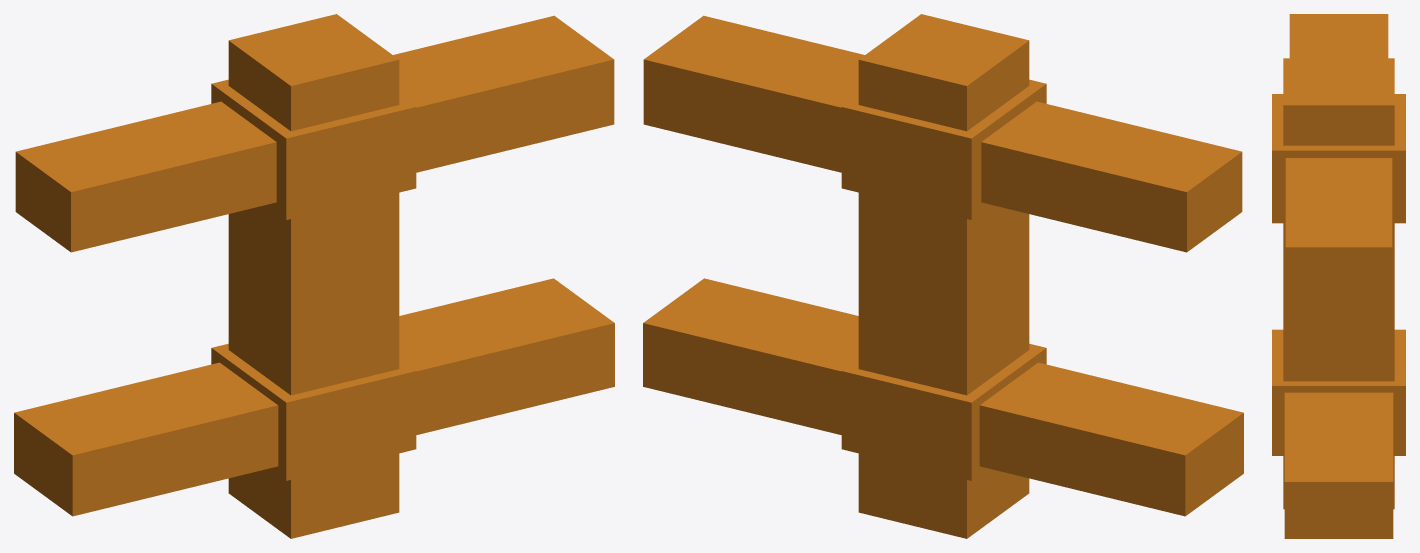
File: Fence_Side.fbx
3 renders of one model, left to right at view 1: azimuth 30°, elevation 25°; view 2: azimuth 150°, elevation 25°; view 3: azimuth 270°, elevation 25°, orthographic. The views are drawn at different scales.
Visible parts, largest first — view 1: pCube4; view 2: pCube4; view 3: pCube4.
Boxes of the visible parts, x1=… form: pCube4: x1=14, y1=14, x2=614, y2=538; pCube4: x1=643, y1=14, x2=1243, y2=538; pCube4: x1=1272, y1=14, x2=1405, y2=538.
Bounding box in the file's own units: 250 × 200 × 60.
